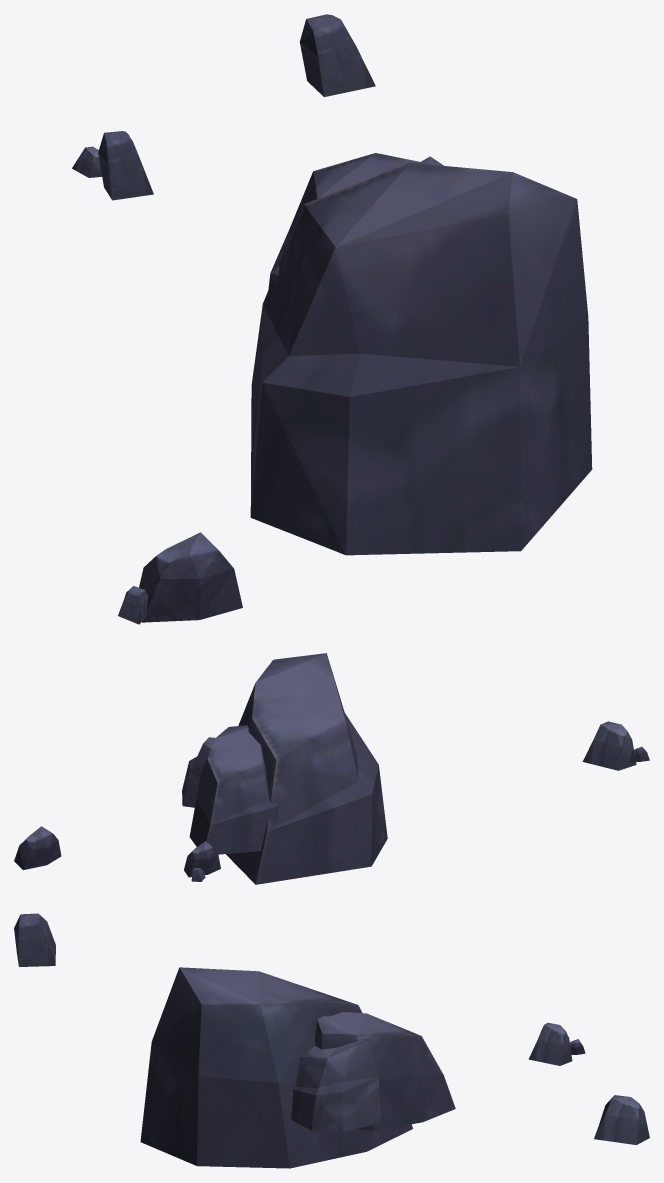
Rendered from Area09_15.fbx.
The picture shows the model from 3 angles, top to bottom: view 1: azimuth 30°, elevation 25°; view 2: azimuth 150°, elevation 25°; view 3: azimuth 270°, elevation 25°; orthographic projection. The views are drawn at different scales.
Visible parts, largest first — view 1: Area09_15; view 2: Area09_15; view 3: Area09_15.
Boxes of the visible parts, x1,y1,x2,y2 form: Area09_15: (72, 14, 592, 624); Area09_15: (14, 653, 649, 884); Area09_15: (14, 913, 649, 1168).
Bounding box in the file's own units: 3052 × 1250 × 3802.
